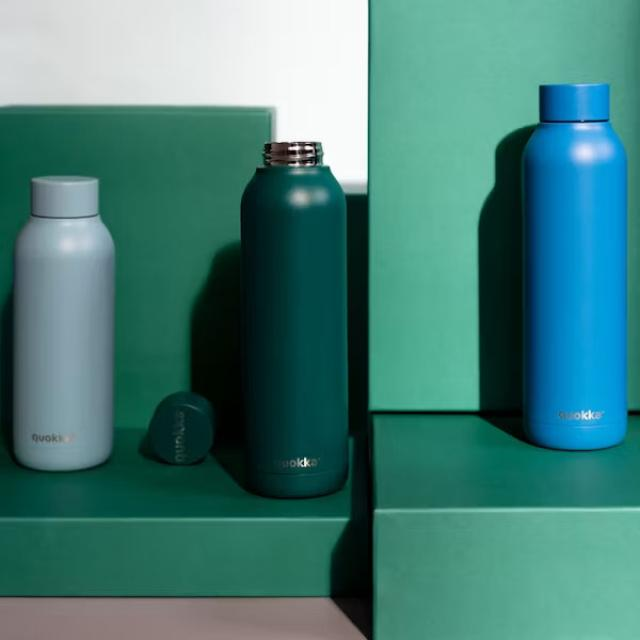Bottle: (523, 85, 627, 450), (242, 142, 347, 498), (13, 176, 114, 471)
